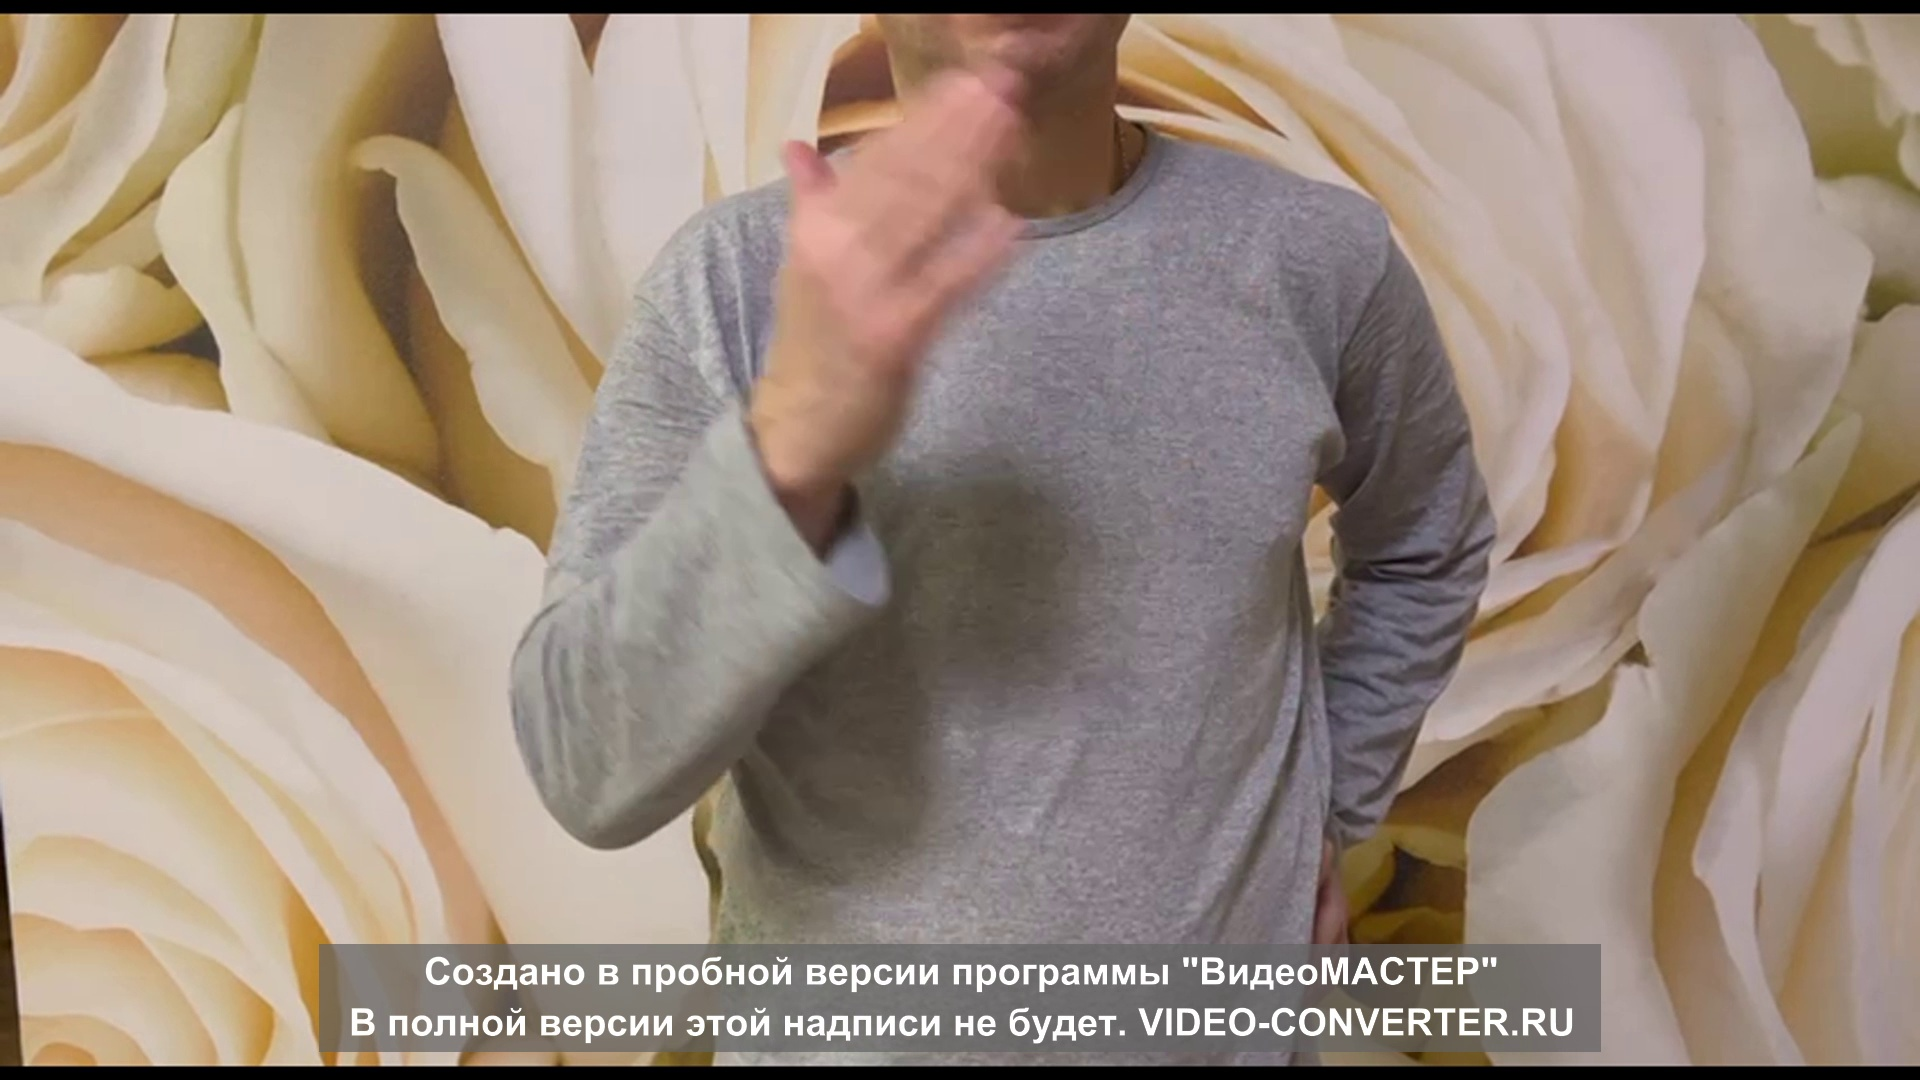Кисть: (786, 66, 1010, 467)
